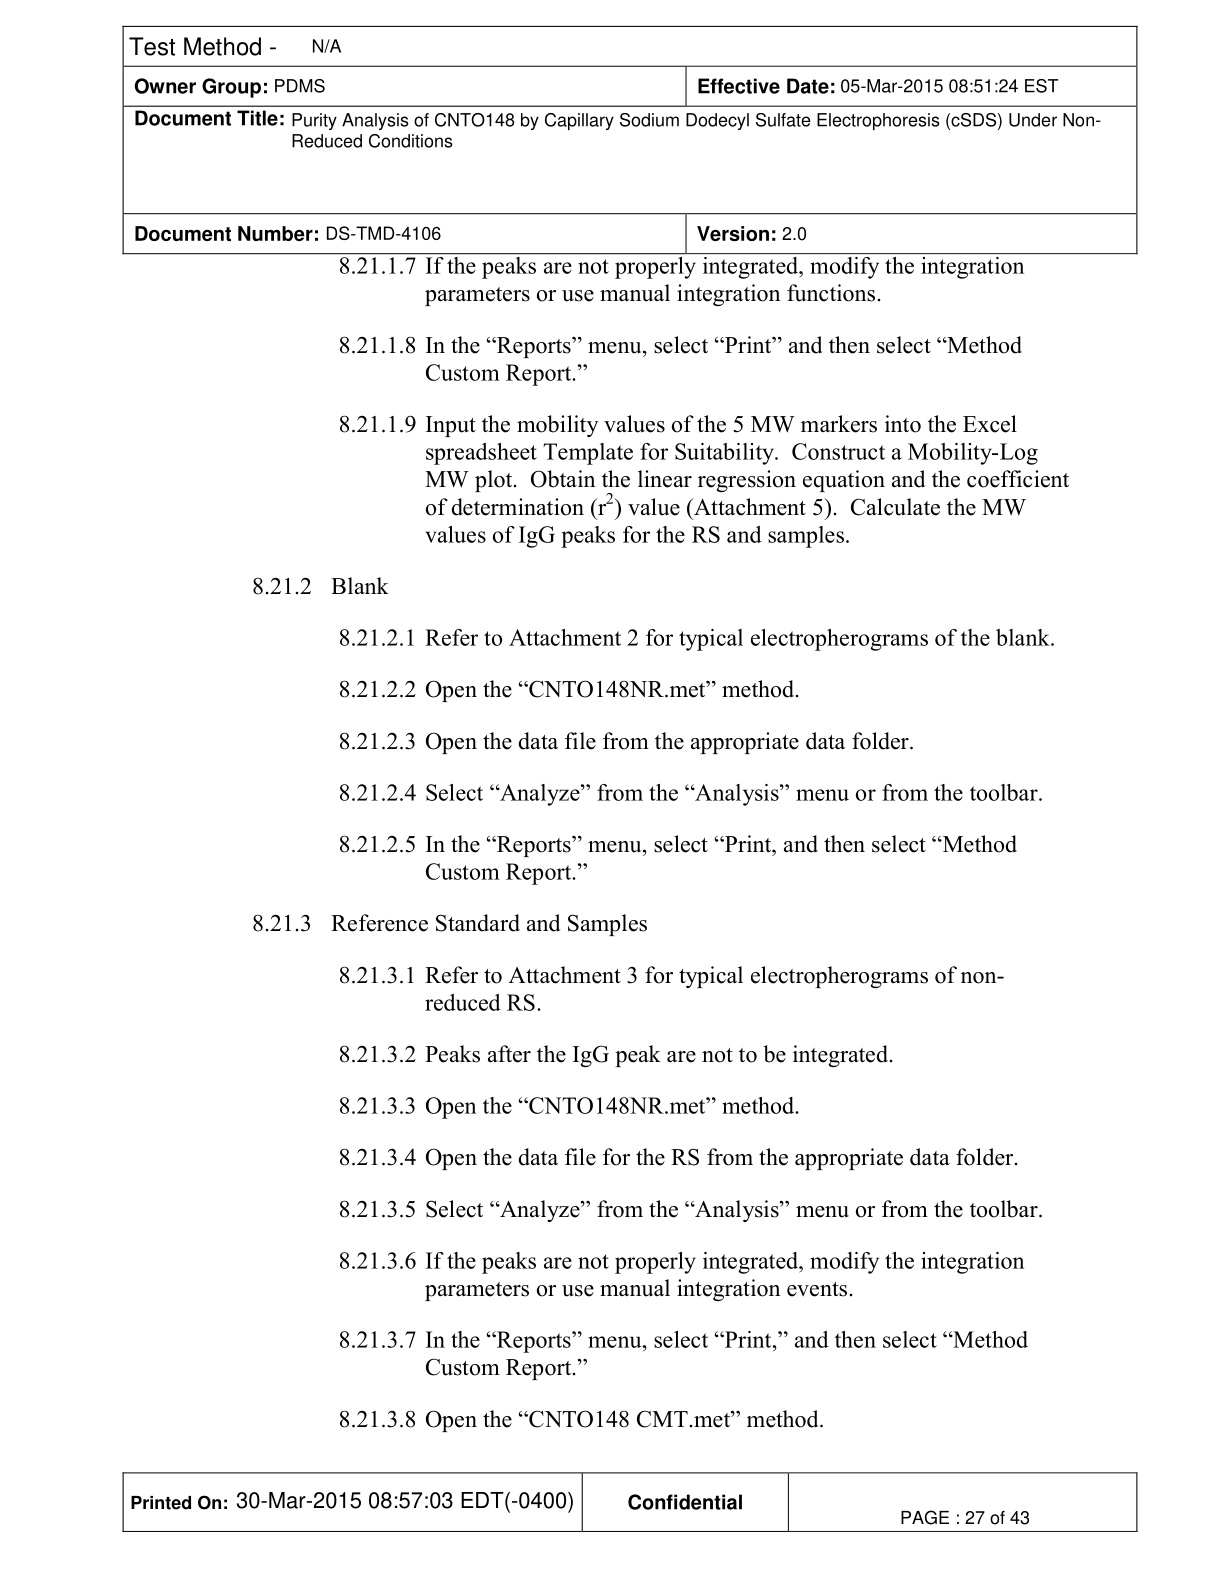full_lined: (121, 1471, 1138, 1534)
merged_cells: (121, 24, 1139, 255)
